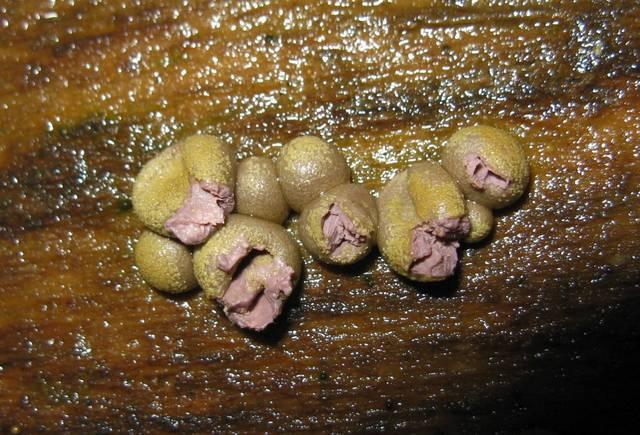poisonous_mushroom: (130, 122, 532, 332), (191, 212, 302, 332), (375, 159, 472, 282), (130, 133, 236, 244), (440, 123, 530, 209), (297, 182, 378, 266), (275, 134, 350, 213), (133, 228, 198, 294), (234, 155, 288, 224)
